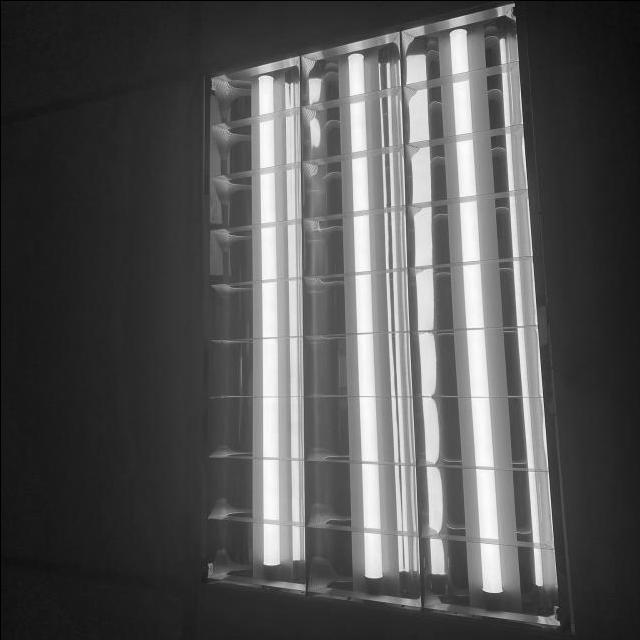light: (201, 7, 561, 627)
